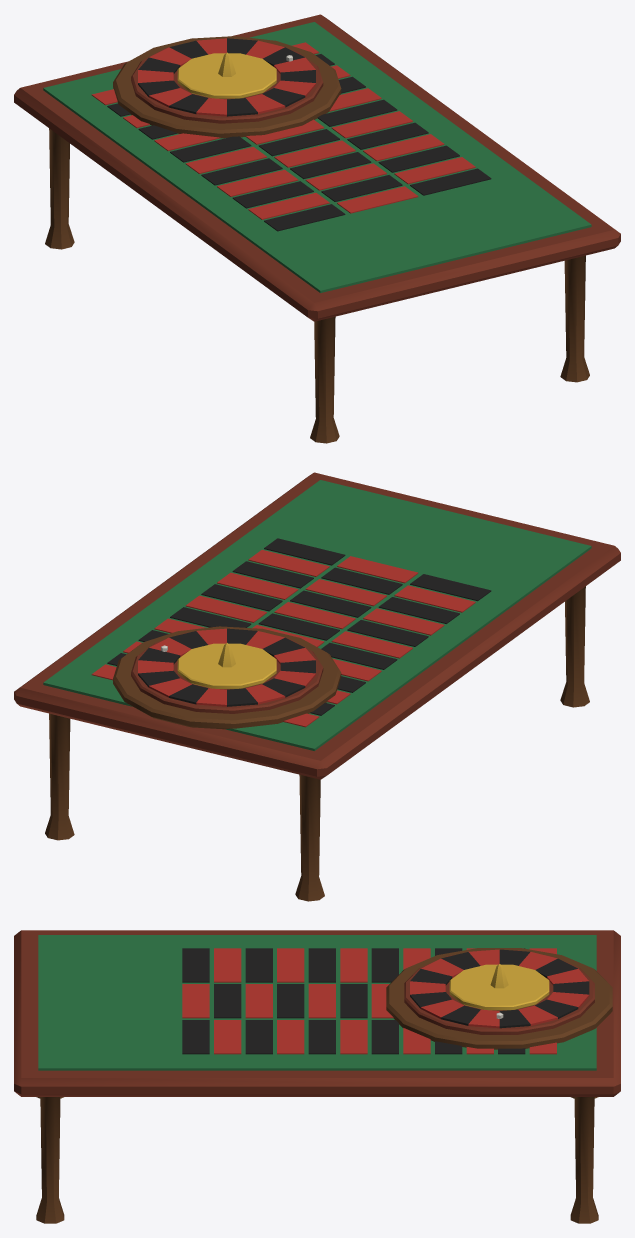
Rendered from 163_table_roulette.fbx.
3 views of the same model, one above another, from view 1: azimuth 30°, elevation 25°; view 2: azimuth 150°, elevation 25°; view 3: azimuth 270°, elevation 25° (orthographic).
Parts seen in each view (by area): view 1: Tapis, Table, Roue; view 2: Tapis, Table, Roue; view 3: Tapis, Table, Roue.
Boxes of the visible parts, x1,y1,x2,y2 form: Tapis: (43, 22, 591, 292); Table: (14, 14, 620, 443); Roue: (131, 38, 323, 123); Tapis: (43, 480, 591, 750); Table: (14, 472, 620, 901); Roue: (131, 628, 323, 713); Tapis: (38, 935, 596, 1070); Table: (14, 930, 620, 1223); Roue: (404, 949, 594, 1034).
Bounding box in the file's own units: 1.68 × 0.98 × 2.8.
Materials: 1 (1 with a texture image).
